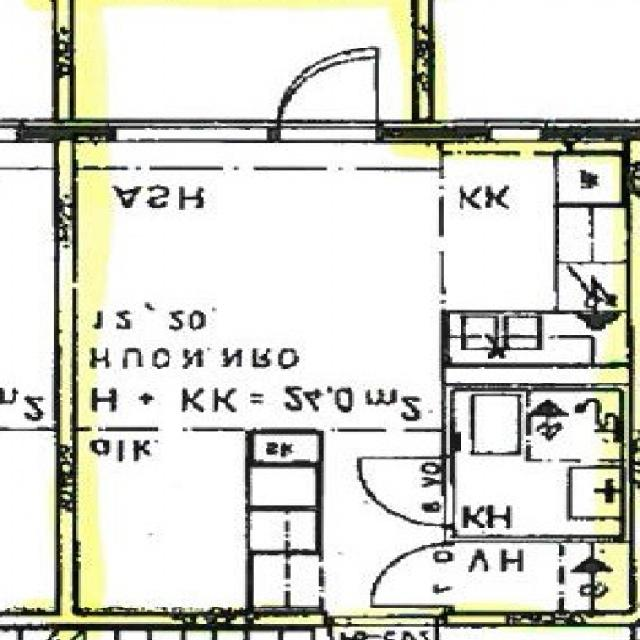door: (271, 37, 380, 141), (353, 456, 455, 527), (364, 545, 455, 607)
